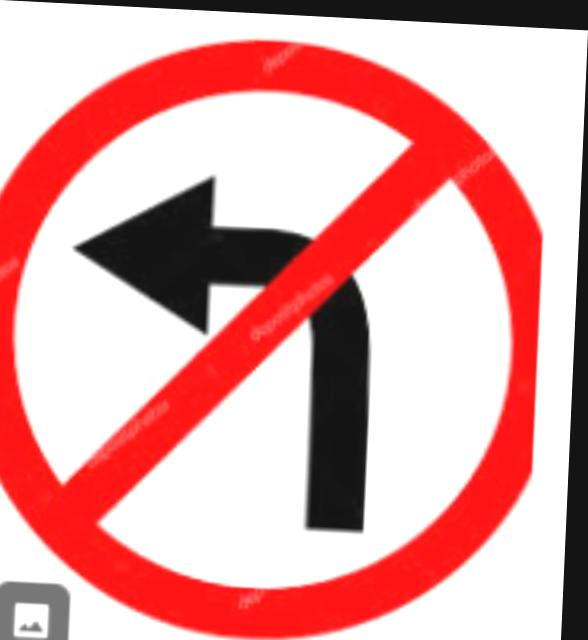not_turn_left: (0, 34, 559, 629)
